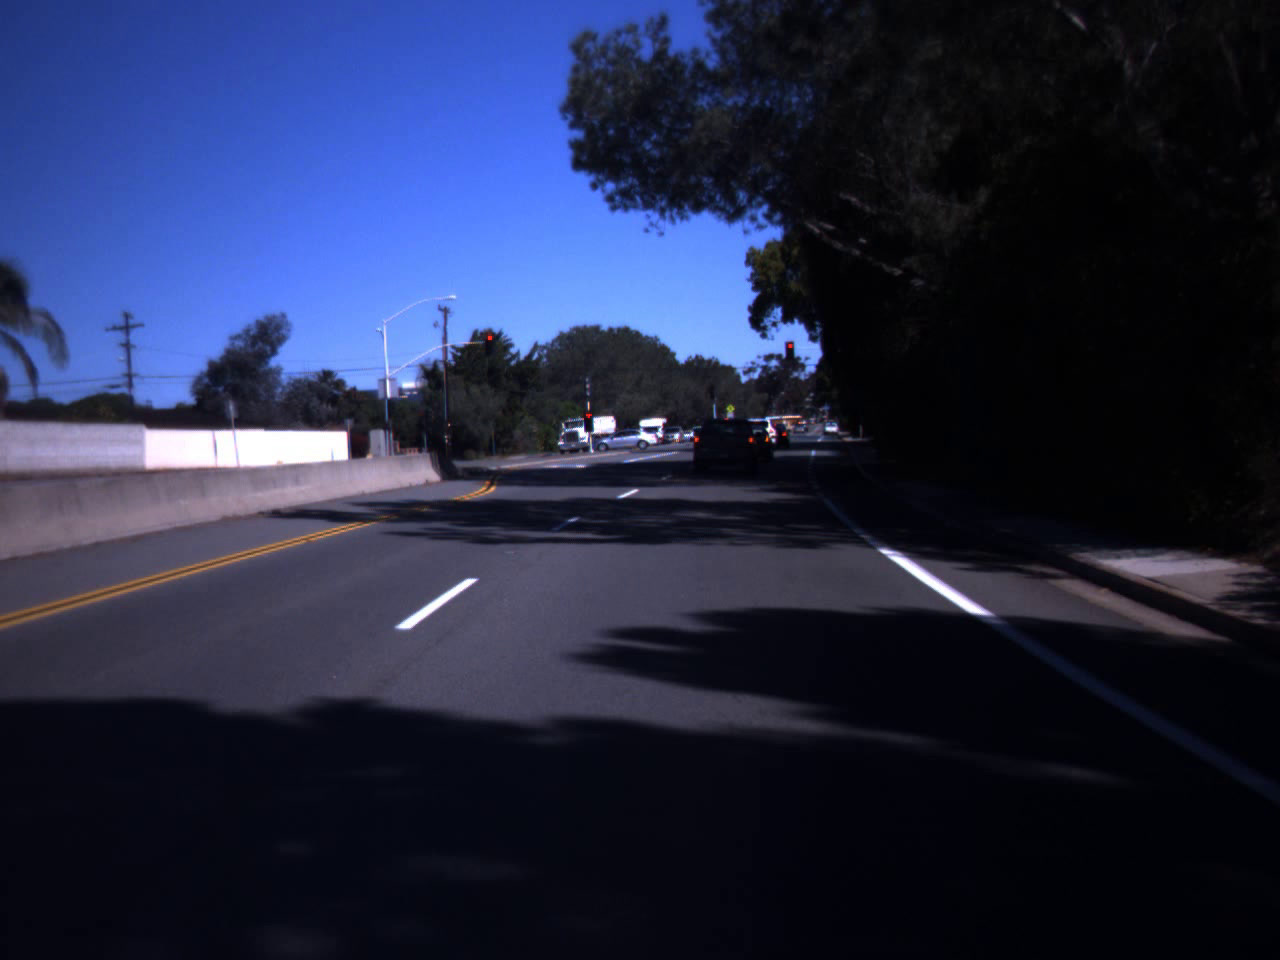stop: (580, 412, 598, 430), (484, 334, 496, 352), (784, 342, 796, 360)
